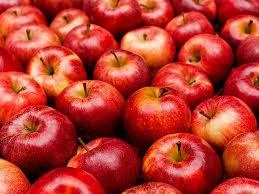apple: (0, 0, 259, 194)
apricot: (0, 0, 259, 194)
grapes: (0, 0, 259, 194)
kiwi: (0, 0, 259, 194)
melon: (0, 0, 259, 194)
potato: (0, 0, 259, 194)
